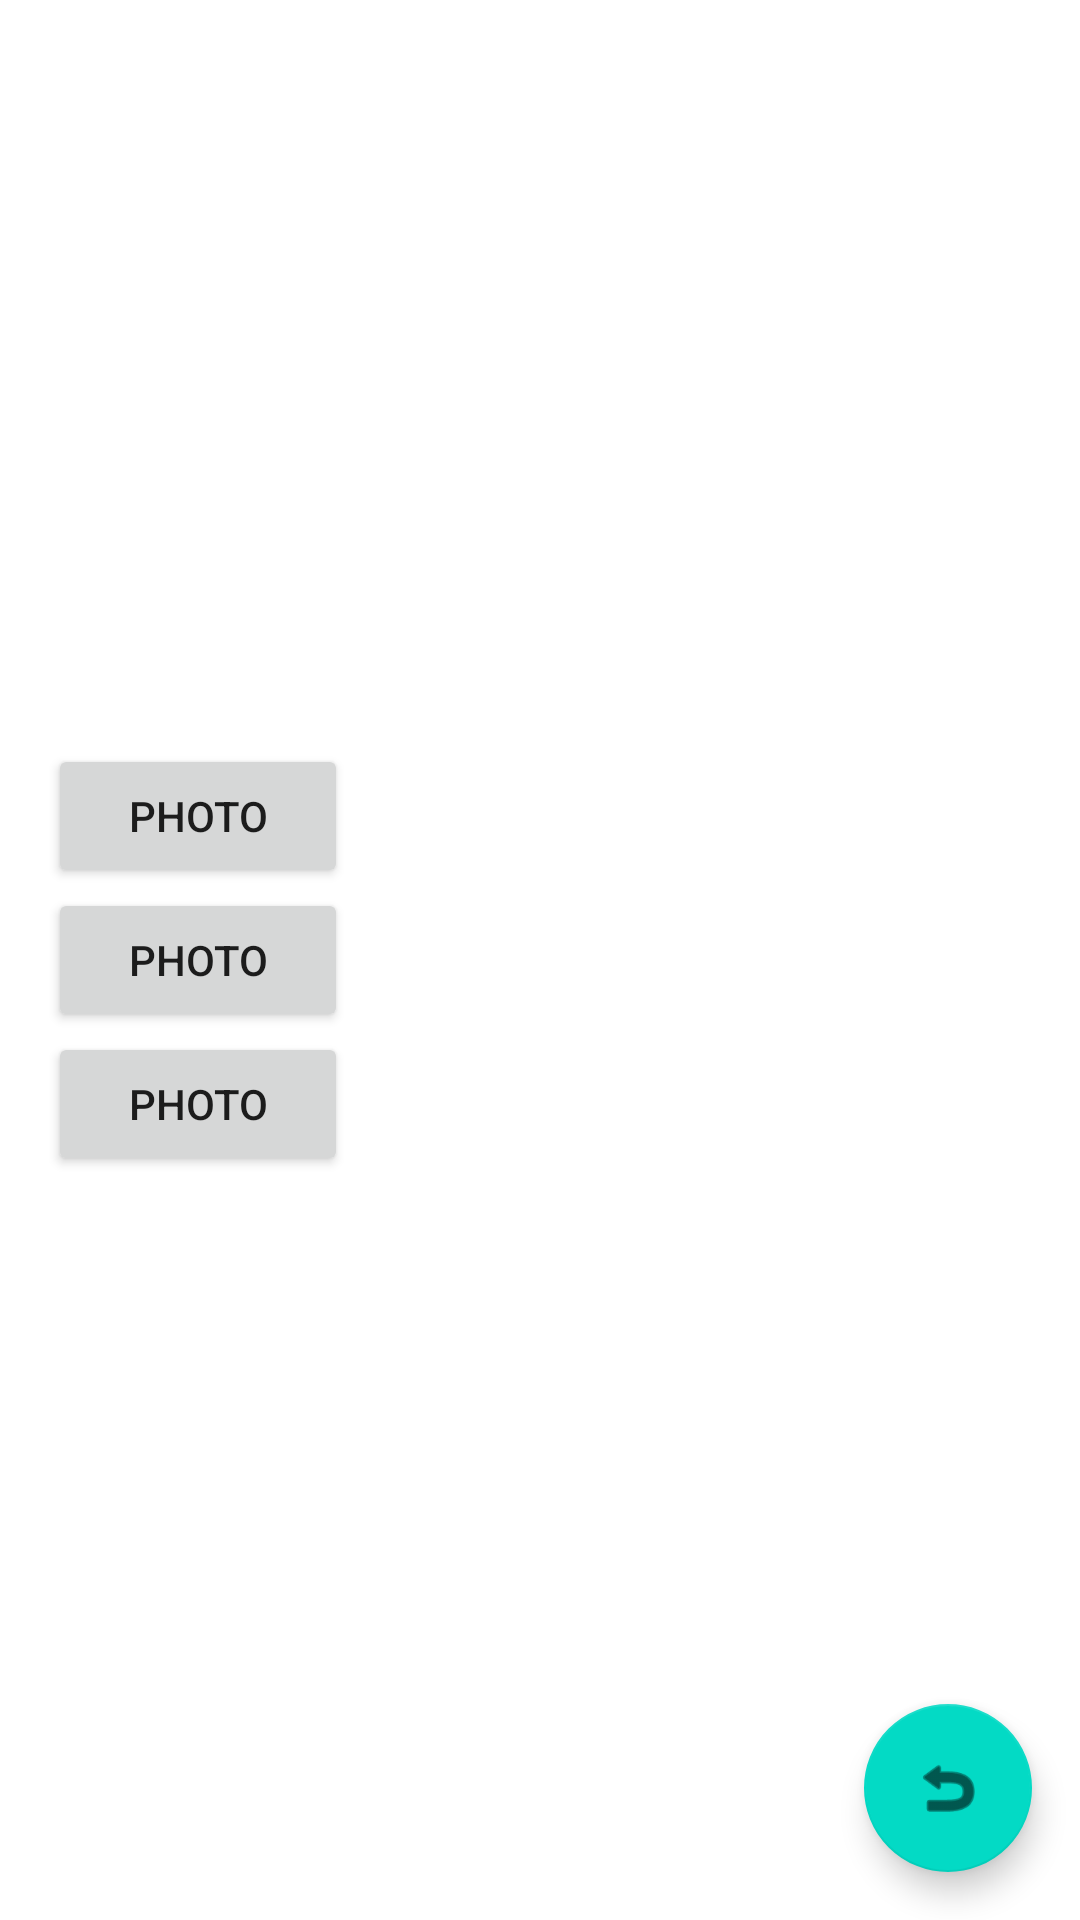

Where icons sit on this 1080 × 1920 app screen, as box(x1, y1, x2, y2):
revert: box(864, 1704, 1032, 1872)
